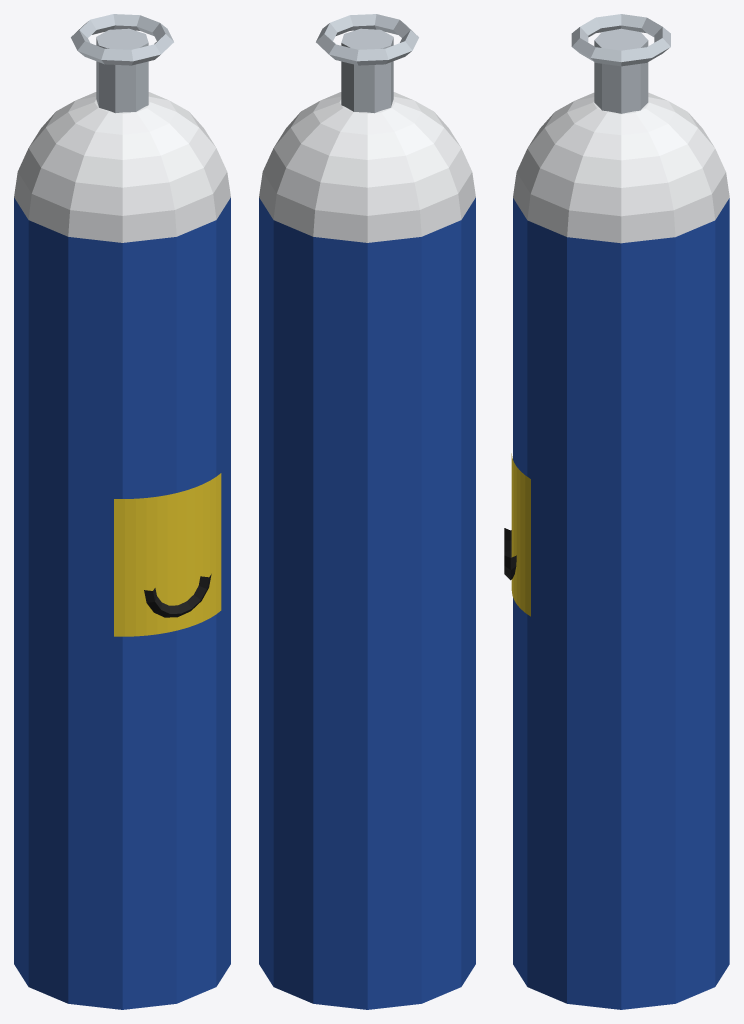
Rendered from gas_tank.glb.
3 renders of one model, left to right at view 1: azimuth 30°, elevation 25°; view 2: azimuth 150°, elevation 25°; view 3: azimuth 270°, elevation 25°, orthographic.
Parts seen in each view (by area): view 1: tank_tank_blue, tank_dental_white, label_label_yellow, valve_dental_chrome, label_label_ink; view 2: tank_tank_blue, tank_dental_white, valve_dental_chrome; view 3: tank_tank_blue, tank_dental_white, valve_dental_chrome, label_label_yellow.
Boxes of the visible parts, x1,y1,x2,y2 form: tank_tank_blue: [14, 197, 230, 1009]; tank_dental_white: [14, 92, 230, 242]; label_label_yellow: [114, 473, 221, 636]; valve_dental_chrome: [71, 14, 173, 113]; label_label_ink: [144, 574, 211, 617]; tank_tank_blue: [259, 197, 475, 1009]; tank_dental_white: [259, 92, 475, 242]; valve_dental_chrome: [316, 14, 418, 113]; tank_tank_blue: [513, 198, 729, 1009]; tank_dental_white: [513, 92, 729, 243]; valve_dental_chrome: [571, 14, 670, 113]; label_label_yellow: [511, 453, 530, 616].
Bounding box in the file's own units: 0.2 × 0.948 × 0.208.
